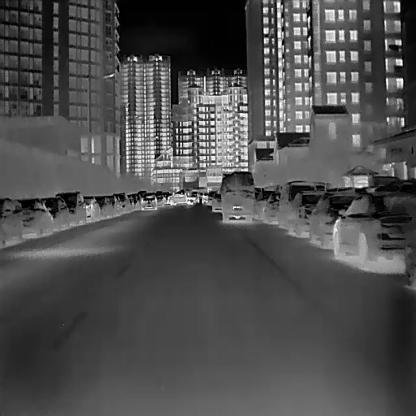car: (334, 192, 414, 260), (309, 192, 359, 245), (221, 169, 254, 221), (278, 182, 315, 228), (289, 192, 326, 234), (18, 196, 53, 239), (55, 190, 87, 228), (0, 196, 23, 247), (44, 195, 72, 232), (82, 193, 101, 225), (93, 194, 112, 220), (263, 193, 280, 222), (168, 193, 196, 206), (140, 193, 157, 211), (212, 192, 221, 211)
